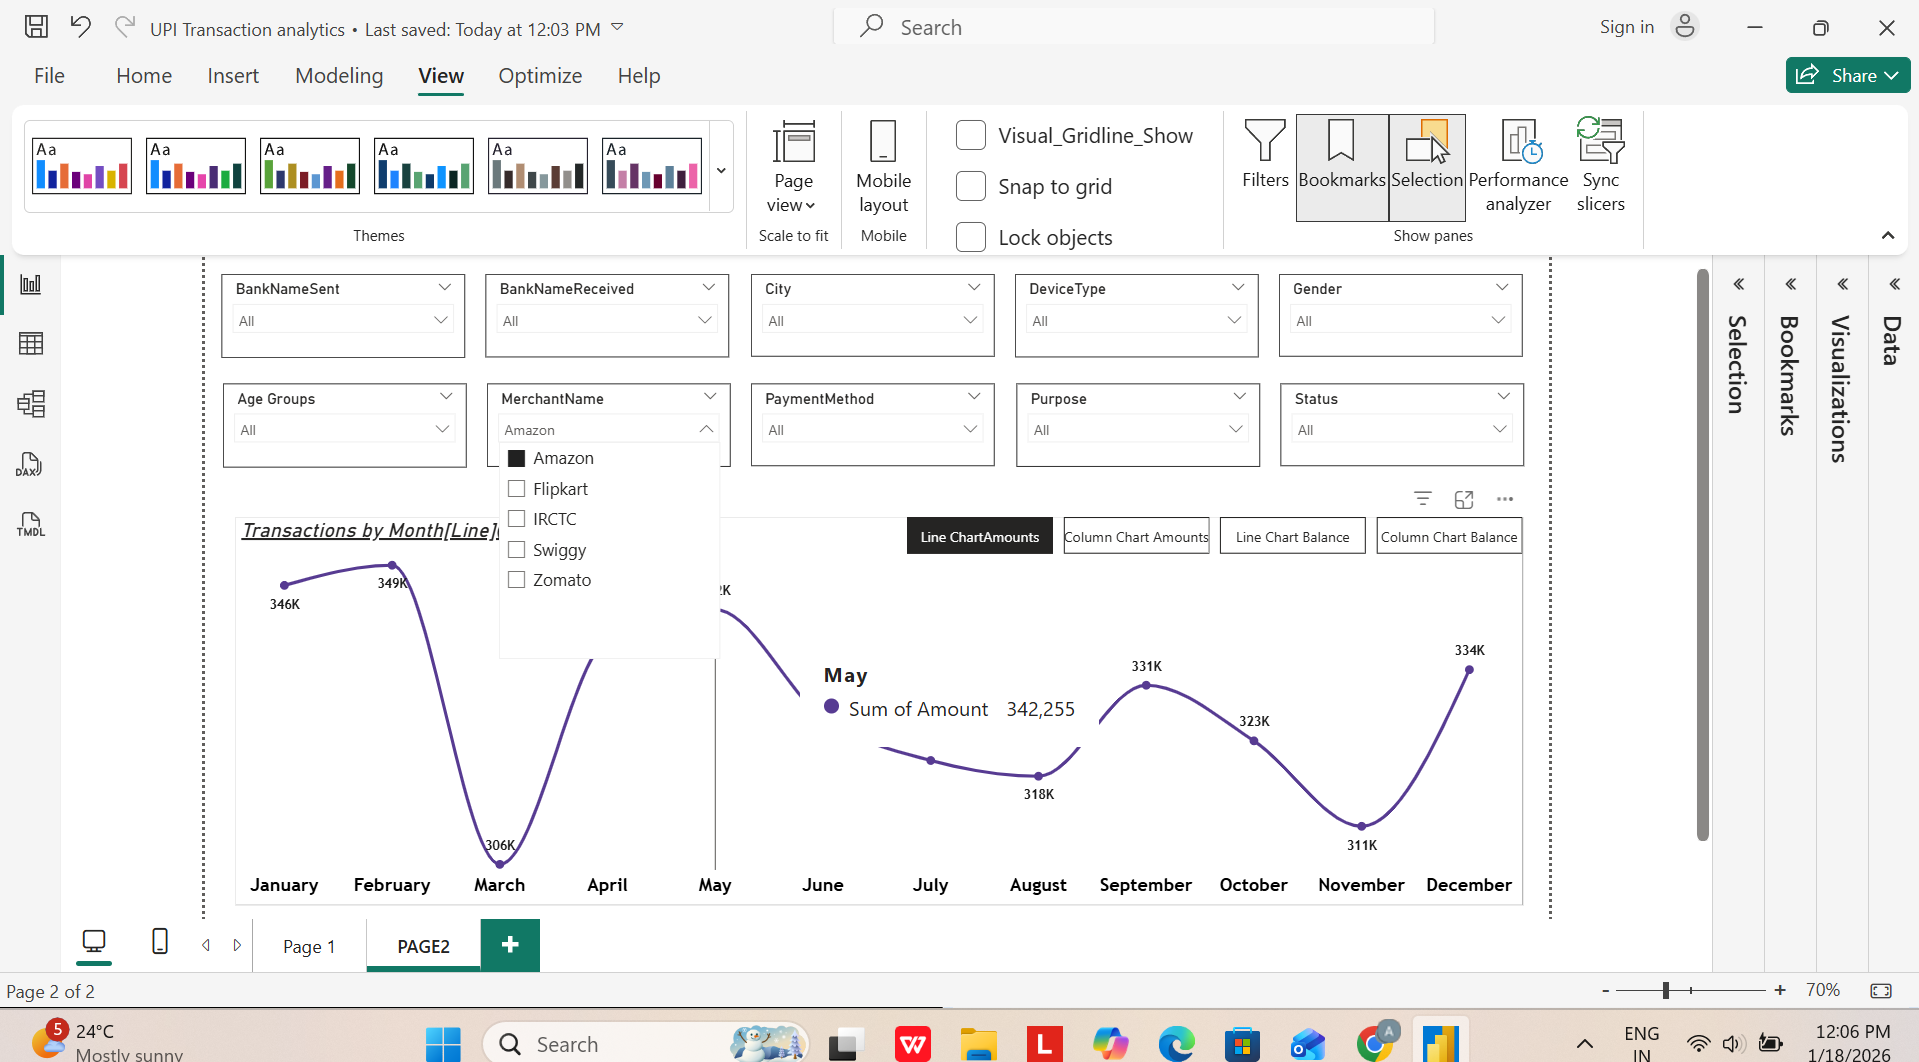

The page's visual inventory and layout, read from the dashboard file:
{"tool":"powerbi","page":{"name":"PAGE2 ","canvas":[1280,720],"ordinal":1},"visuals":[{"type":"slicer","fields":{"Values":["Transaction details.BankNameSent"]},"box":[15.6,20,232,80],"z":0},{"type":"slicer","fields":{"Values":["Transaction details.BankNameReceived"]},"box":[267.6,20,232,79],"z":1000},{"type":"slicer","fields":{"Values":["Transaction details.City"]},"box":[519.6,20,232,78.3],"z":2000},{"type":"slicer","fields":{"Values":["Transaction details.DeviceType"]},"box":[771.6,20,232,79],"z":3000},{"type":"slicer","fields":{"Values":["Transaction details.Gender"]},"box":[1023.6,20,232,78.3],"z":4000},{"type":"slicer","fields":{"Values":["Transaction details.Age Groups"]},"box":[16.7,124.4,232,80],"z":5000},{"type":"slicer","fields":{"Values":["Transaction details.MerchantName"]},"box":[268.7,124.4,232,79],"z":6000},{"type":"slicer","fields":{"Values":["Transaction details.PaymentMethod"]},"box":[520.7,124.4,232,78.3],"z":7000},{"type":"slicer","fields":{"Values":["Transaction details.Purpose"]},"box":[772.7,124.4,232,79],"z":8000},{"type":"slicer","fields":{"Values":["Transaction details.Status"]},"box":[1024.7,124.4,232,78.3],"z":9000},{"type":"lineChart","title":"Transactions by Month[Line](year 2025)","fields":{"Y":["Sum(Transaction details.Amount)"],"Category":["Transaction details.TransactionDate.Variation.Date Hierarchy.Month"]},"box":[28.3,251.7,1226.7,370],"z":10000},{"type":"bookmarkNavigator","box":[668.3,251.7,588.3,35],"z":14500}]}

Visuals, with their boxes on the page's 1280x720 design canvas (x1, y1, x2, y2). These are canvas units, not pixel positions in the 1919x1062 screenshot, which may show the page scaled, cropped or inside an application window:
slicer - Transaction details.BankNameSent: region(16, 20, 248, 100)
slicer - Transaction details.BankNameReceived: region(268, 20, 500, 99)
slicer - Transaction details.City: region(520, 20, 752, 98)
slicer - Transaction details.DeviceType: region(772, 20, 1004, 99)
slicer - Transaction details.Gender: region(1024, 20, 1256, 98)
slicer - Transaction details.Age Groups: region(17, 124, 249, 204)
slicer - Transaction details.MerchantName: region(269, 124, 501, 203)
slicer - Transaction details.PaymentMethod: region(521, 124, 753, 203)
slicer - Transaction details.Purpose: region(773, 124, 1005, 203)
slicer - Transaction details.Status: region(1025, 124, 1257, 203)
"Transactions by Month[Line](year 2025)" lineChart: region(28, 252, 1255, 622)
bookmarkNavigator: region(668, 252, 1257, 287)
